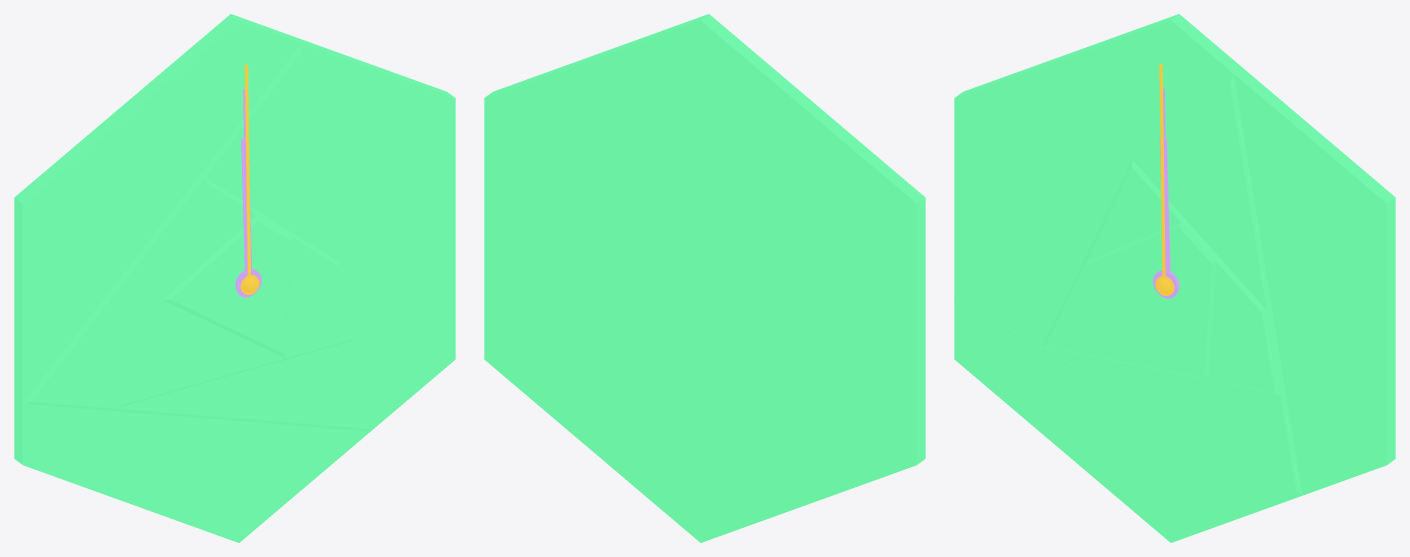
Rendered from Clock.fbx.
3 renders of one model, left to right at view 1: azimuth 30°, elevation 25°; view 2: azimuth 150°, elevation 25°; view 3: azimuth 330°, elevation 25°, orthographic.
Parts seen in each view (by area): view 1: Base, Second, Minute; view 2: Base; view 3: Base, Second, Minute.
Boxes of the visible parts, bbox=[...] form: Base: bbox=[14, 14, 455, 542]; Second: bbox=[240, 64, 259, 294]; Minute: bbox=[235, 89, 261, 296]; Base: bbox=[484, 14, 925, 542]; Base: bbox=[954, 14, 1395, 542]; Second: bbox=[1155, 64, 1174, 295]; Minute: bbox=[1153, 88, 1179, 297].
Size of the model in its own units: 14.56 by 16.8 by 1.22.
